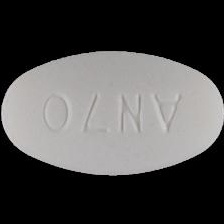16252-601: (0, 0, 224, 224)
